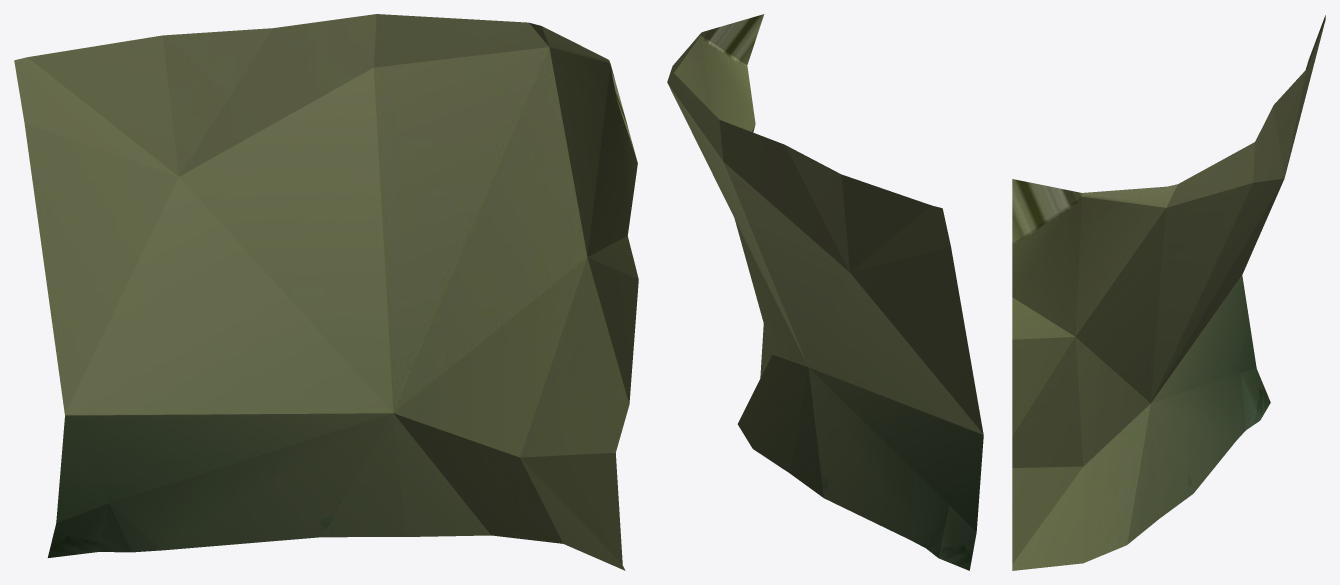
The picture shows the model from 3 angles, left to right: view 1: azimuth 30°, elevation 25°; view 2: azimuth 150°, elevation 25°; view 3: azimuth 270°, elevation 25°; orthographic projection. The views are drawn at different scales.
Size of the model in its own units: 2.92 by 2.95 by 2.16.
Materials: 3 (3 with a texture image).
